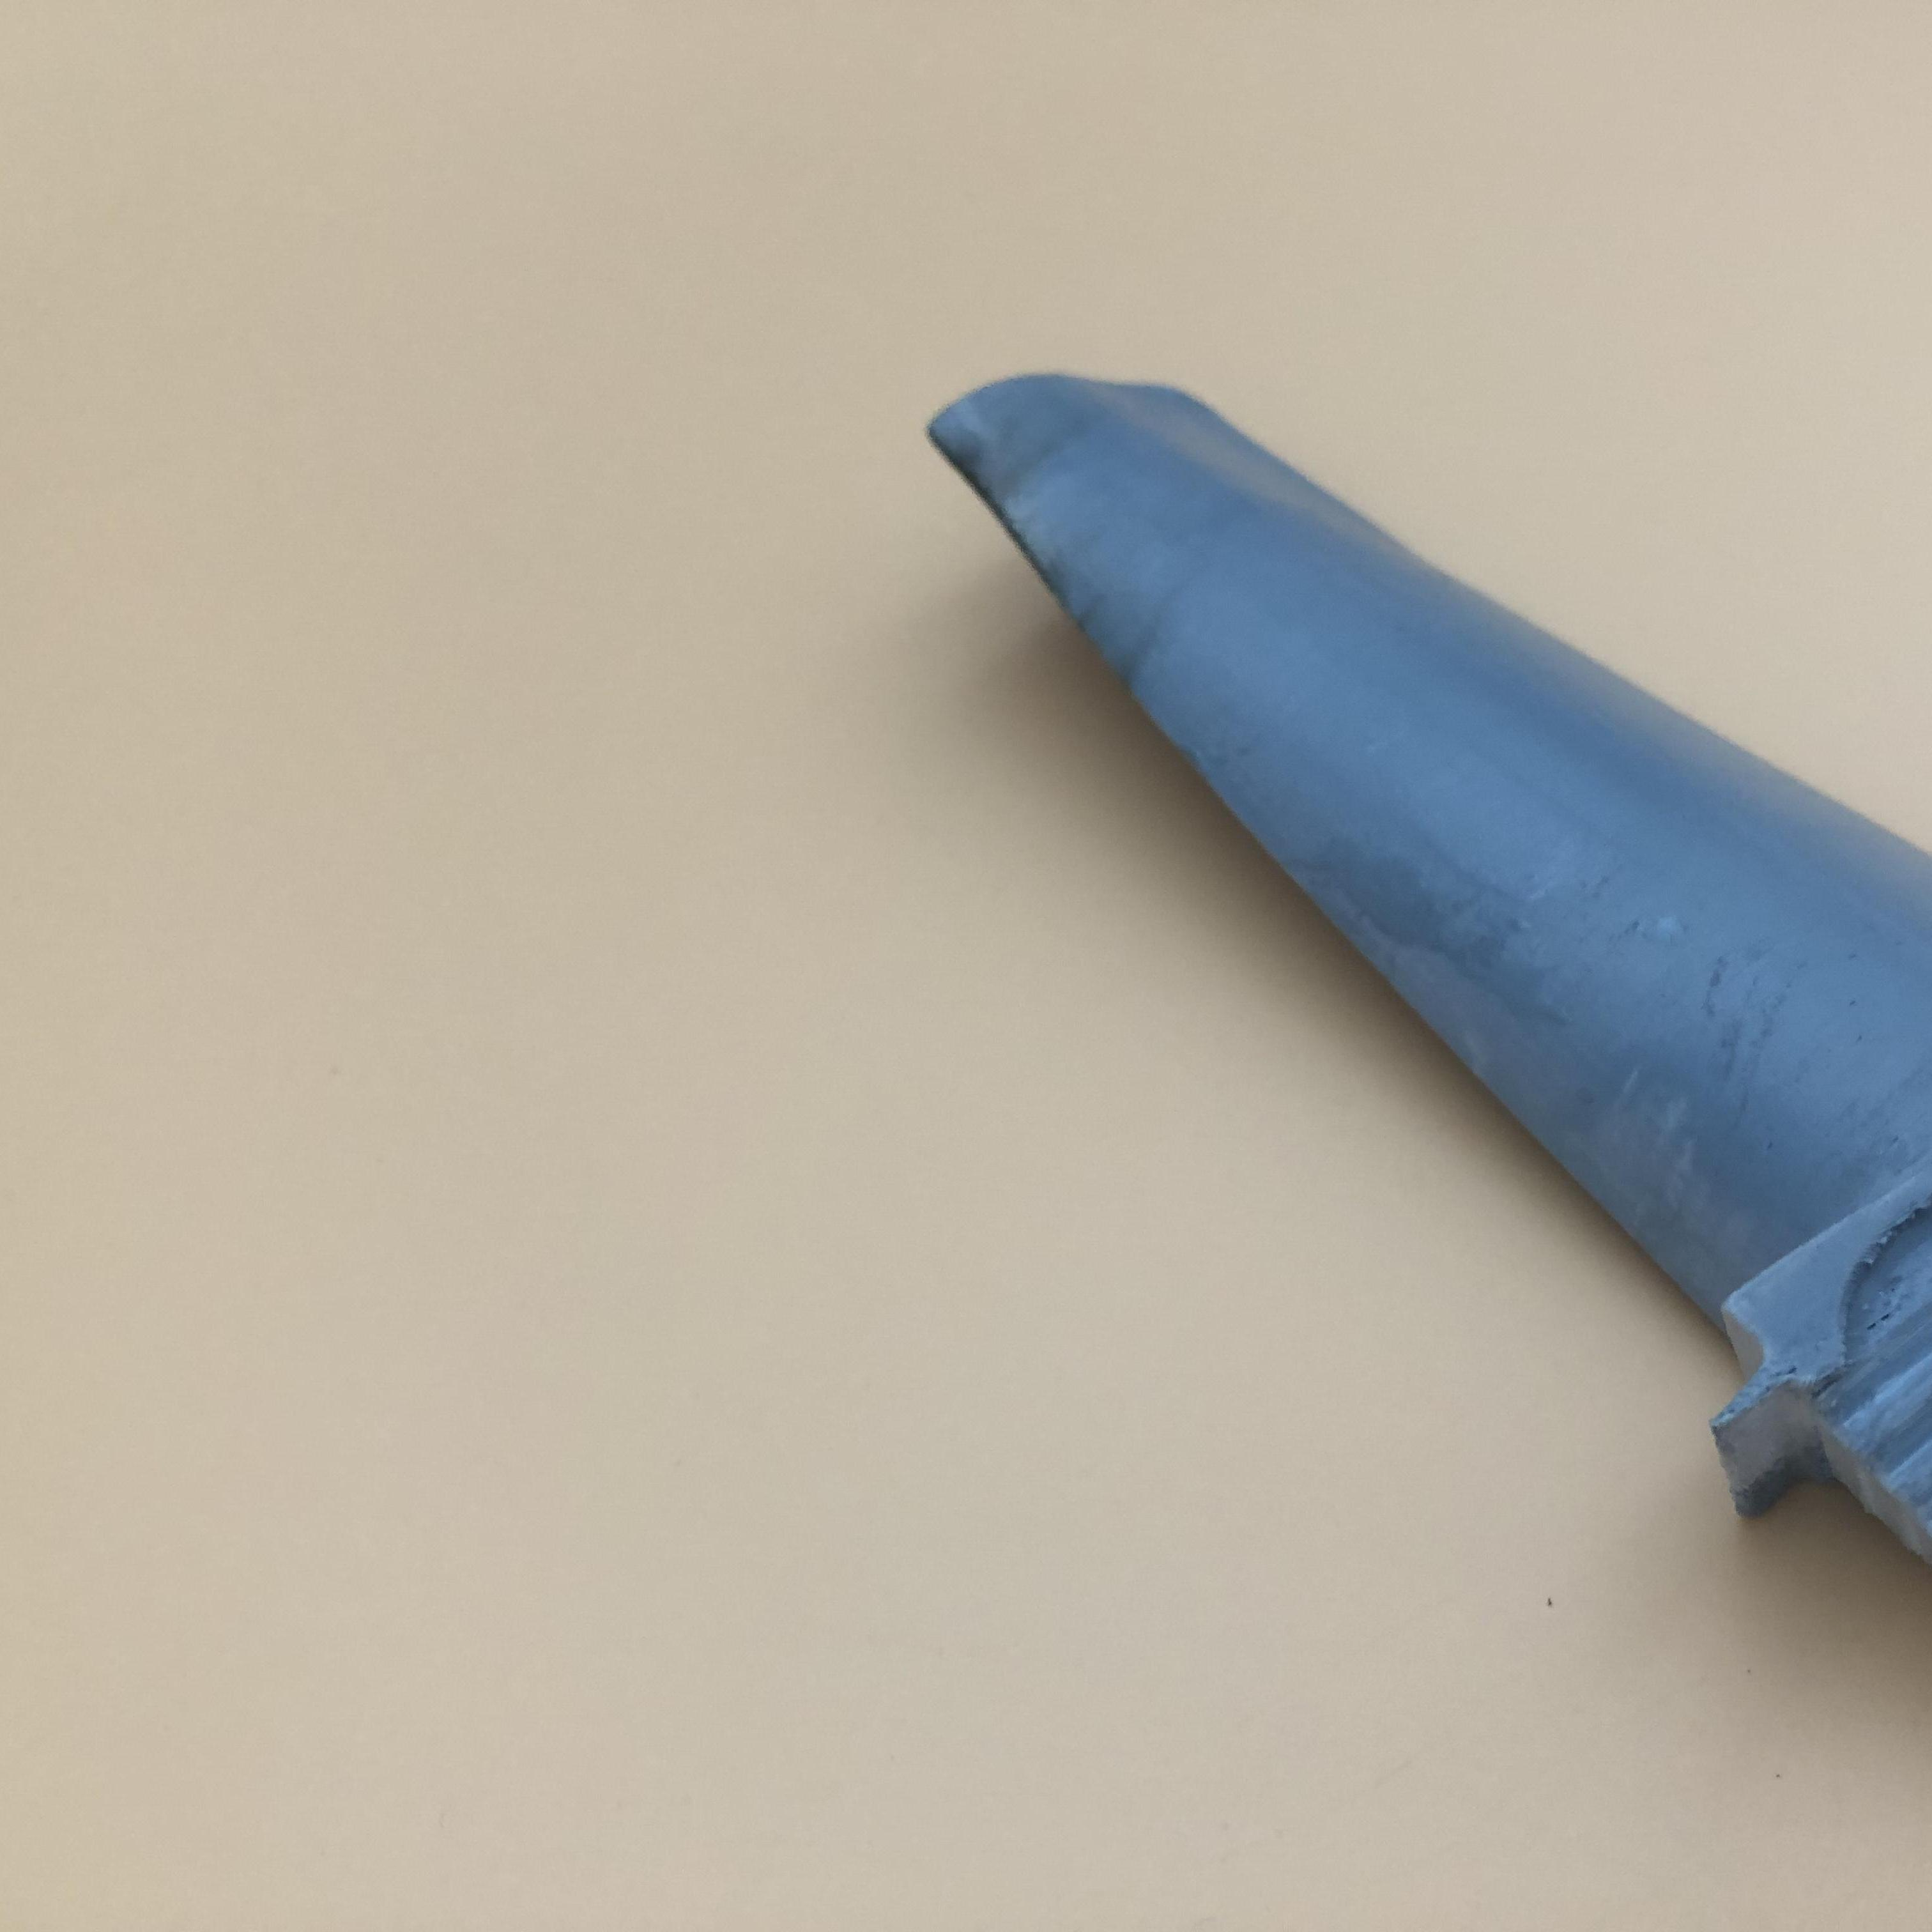ablation: (941, 398, 1118, 609)
